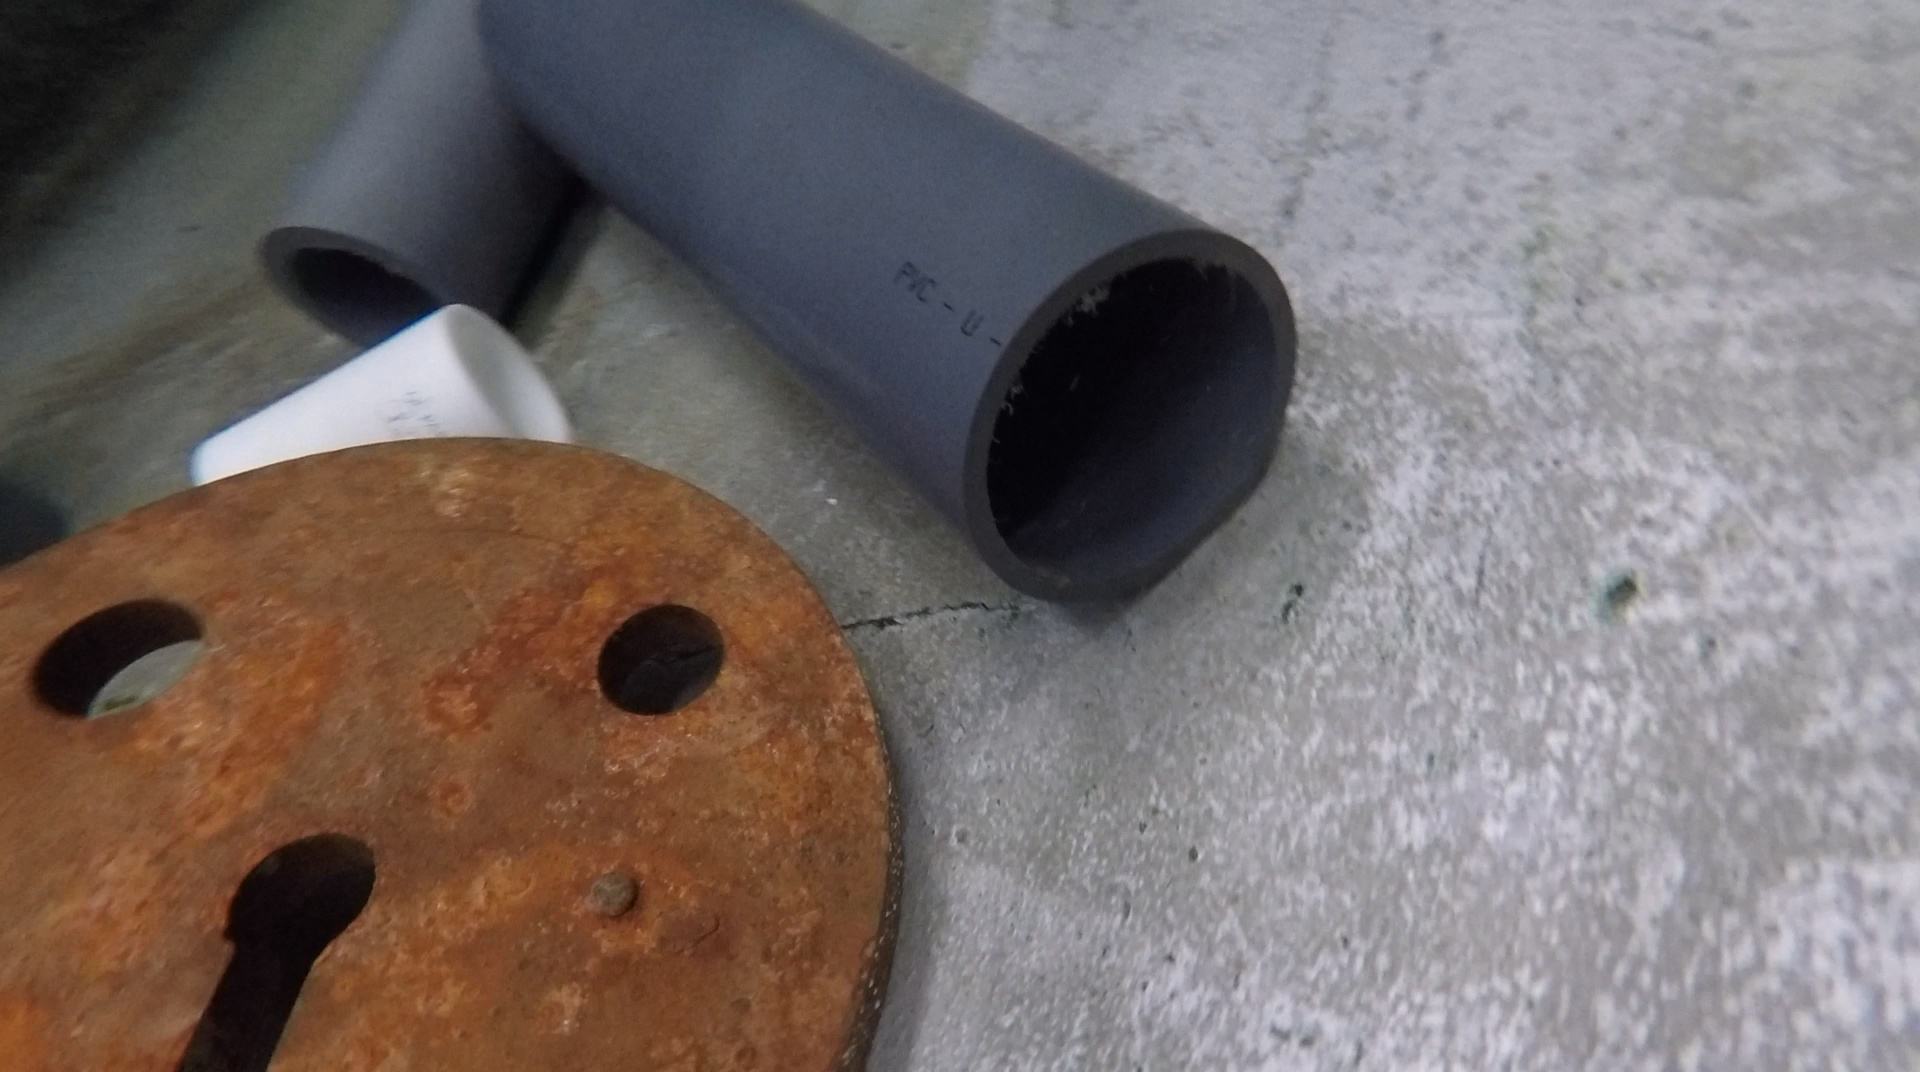flange: (1, 436, 898, 1069)
pipe: (483, 1, 1296, 603), (257, 1, 568, 349), (193, 301, 575, 483)
